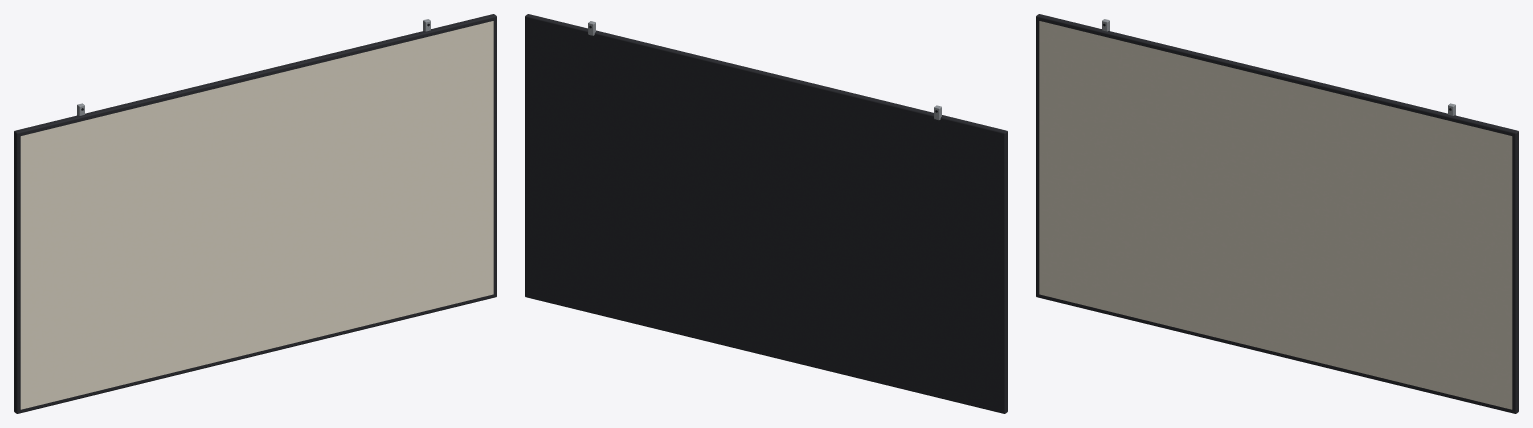
The model's file is 30_projection_screen.glb.
3 views of the same model, side by side, from view 1: azimuth 30°, elevation 25°; view 2: azimuth 150°, elevation 25°; view 3: azimuth 330°, elevation 25° (orthographic).
Visible parts, largest first — view 1: 30_projection_screen__blank_projection_surface, 30_projection_screen__frame; view 2: 30_projection_screen__frame; view 3: 30_projection_screen__blank_projection_surface, 30_projection_screen__frame.
Boxes of the visible parts, left/top/right/bottom form: 30_projection_screen__blank_projection_surface: left=20, top=21, right=493, bottom=409; 30_projection_screen__frame: left=14, top=14, right=496, bottom=413; 30_projection_screen__frame: left=525, top=14, right=1007, bottom=413; 30_projection_screen__blank_projection_surface: left=1039, top=21, right=1512, bottom=409; 30_projection_screen__frame: left=1036, top=14, right=1518, bottom=413.
Size of the model in its own units: 5 by 2.9 by 0.087.
Materials: 4 (4 with a texture image).
